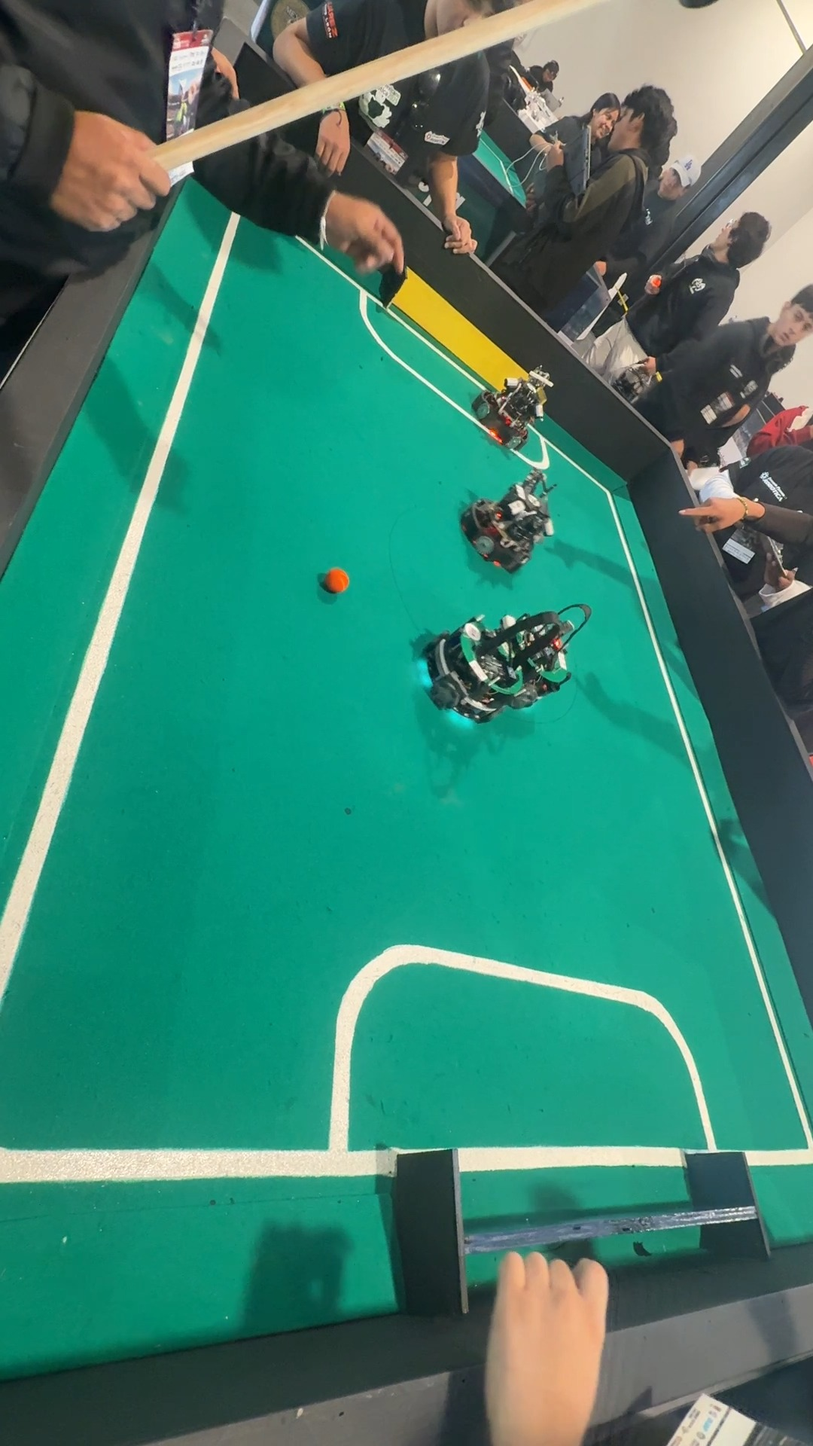Robot: (417, 579, 598, 735), (455, 453, 565, 575), (474, 356, 553, 446)
pelota: (324, 572, 352, 597)
